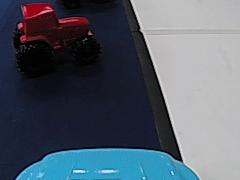Tracktor: (12, 1, 102, 71)
